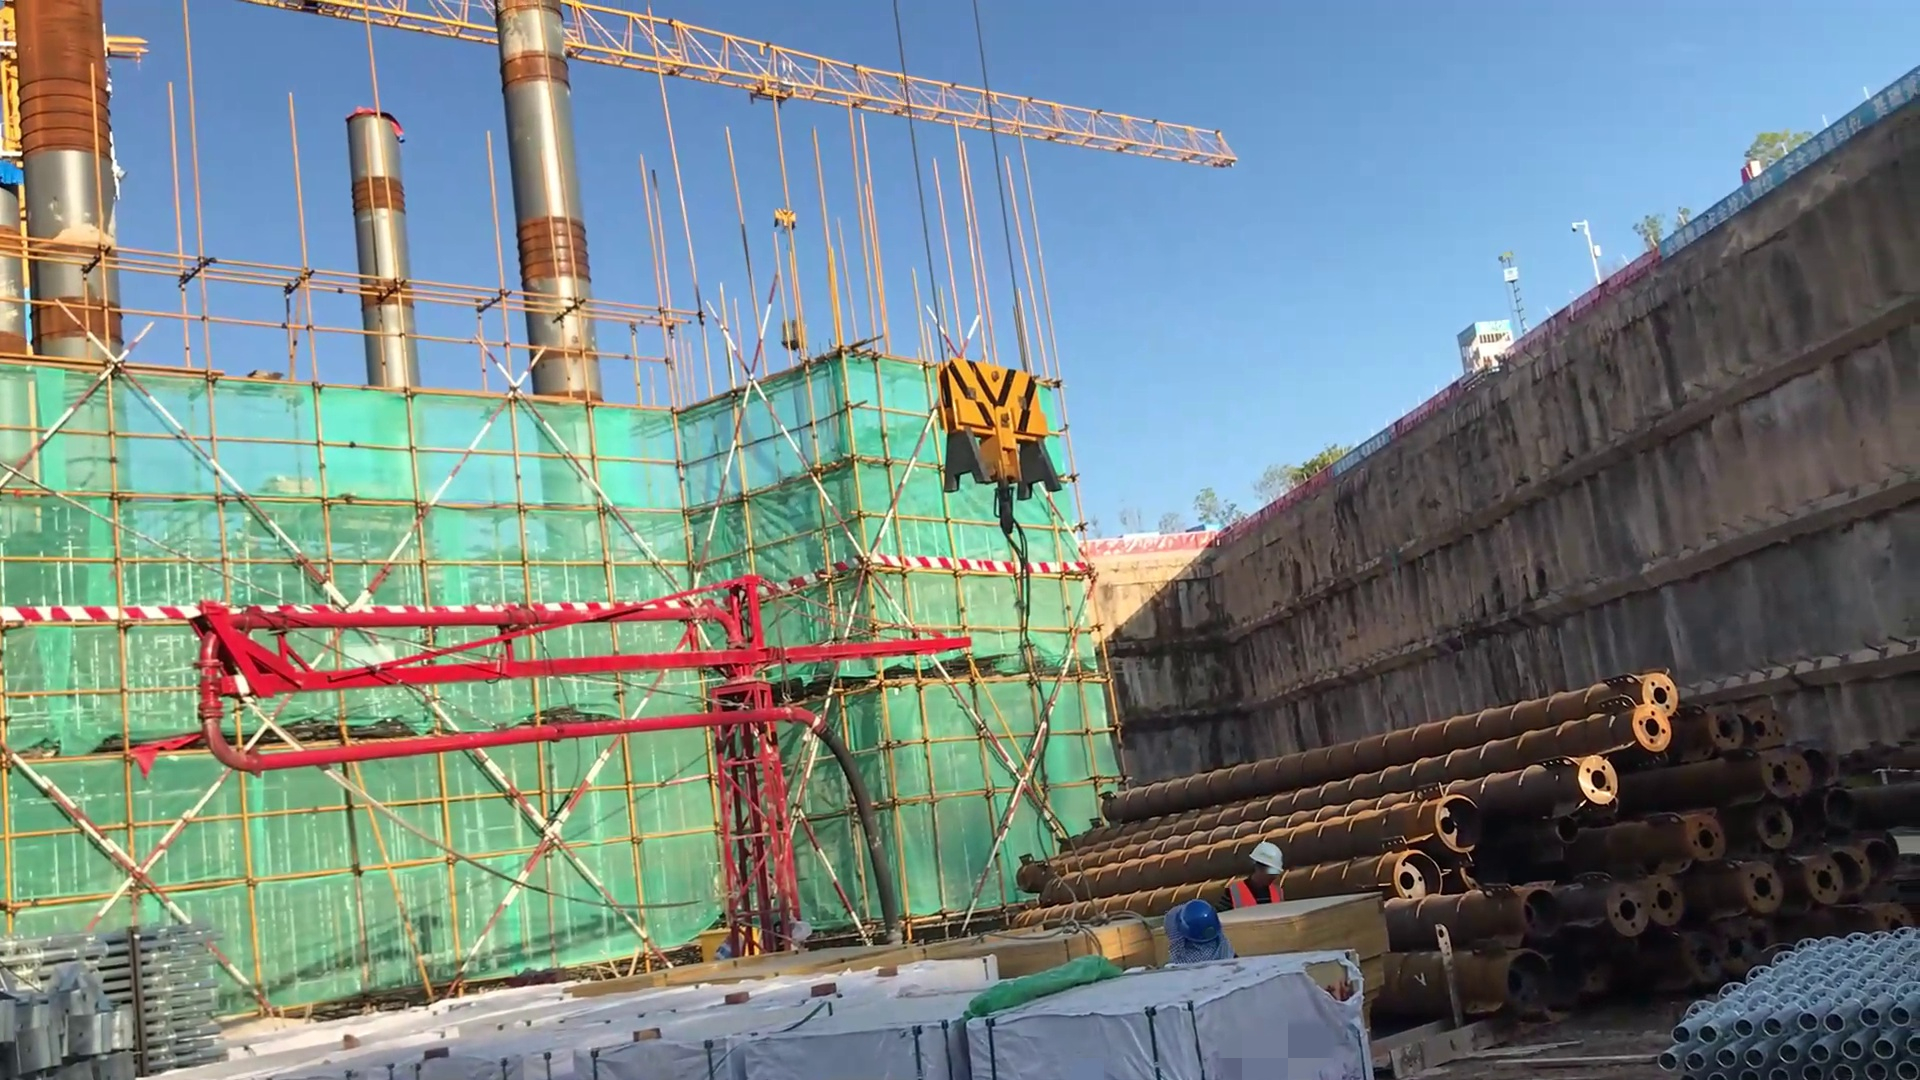board: (1212, 897, 1400, 988), (981, 908, 1156, 981)
ebox: (702, 924, 772, 963)
helmet: (1156, 904, 1237, 954), (1252, 837, 1290, 880)
hook: (926, 348, 1076, 528), (773, 205, 809, 238)
person: (1212, 835, 1300, 912)
scaffold: (1662, 920, 1920, 1077), (68, 897, 227, 1078)
slogan: (1637, 63, 1920, 263), (1333, 430, 1393, 488)
vest: (1229, 872, 1288, 909)
